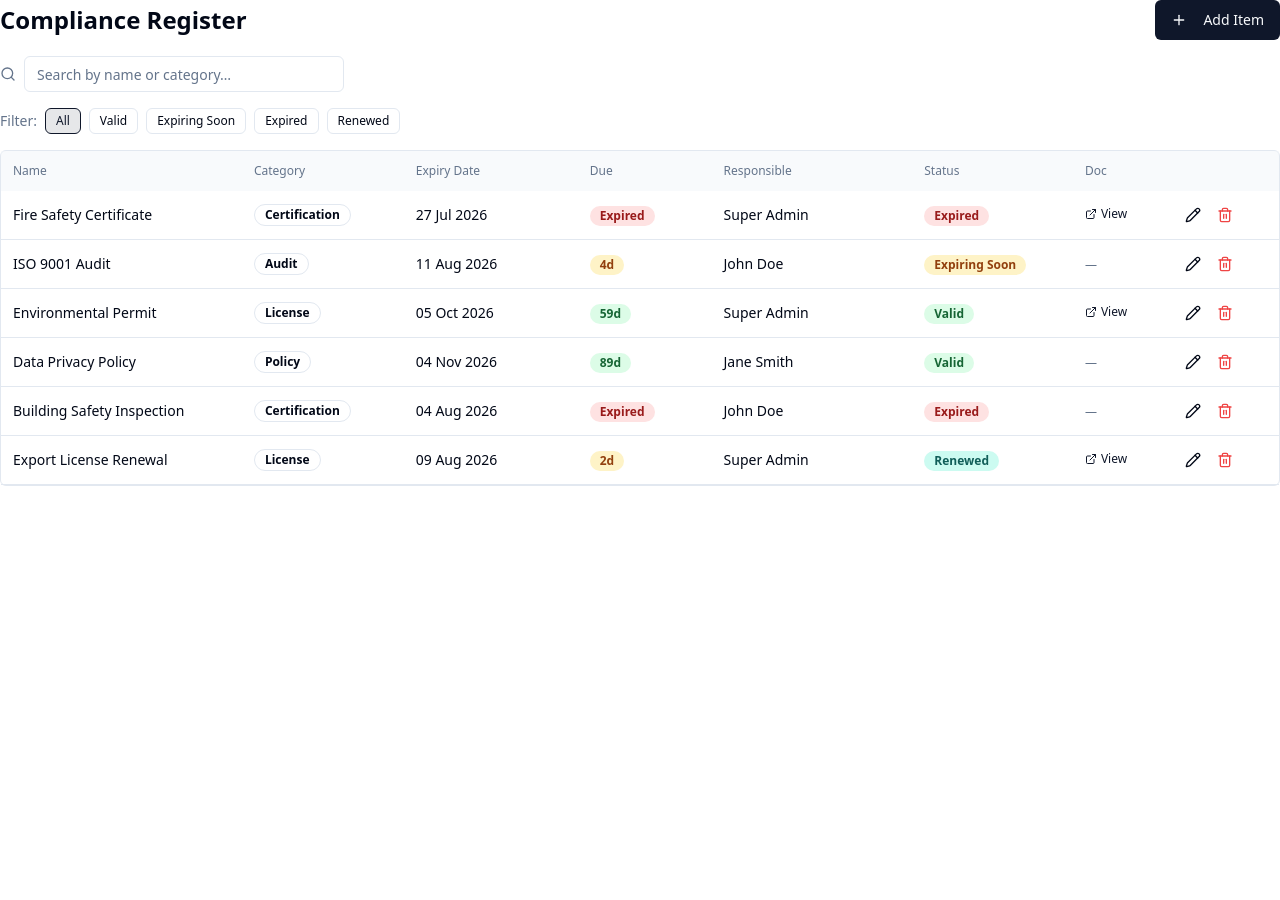
Scenario: CompliancePage › searches responsible user with autocomplete
The image size is (1280, 900).
Expected: the row with test id "compliance-row-comp-1" is shown, x1=1 y1=191 x2=1279 y2=240
Click the button with test id "new-compliance-btn".
click(1218, 20)  # box x1=1155 y1=0 x2=1279 y2=40
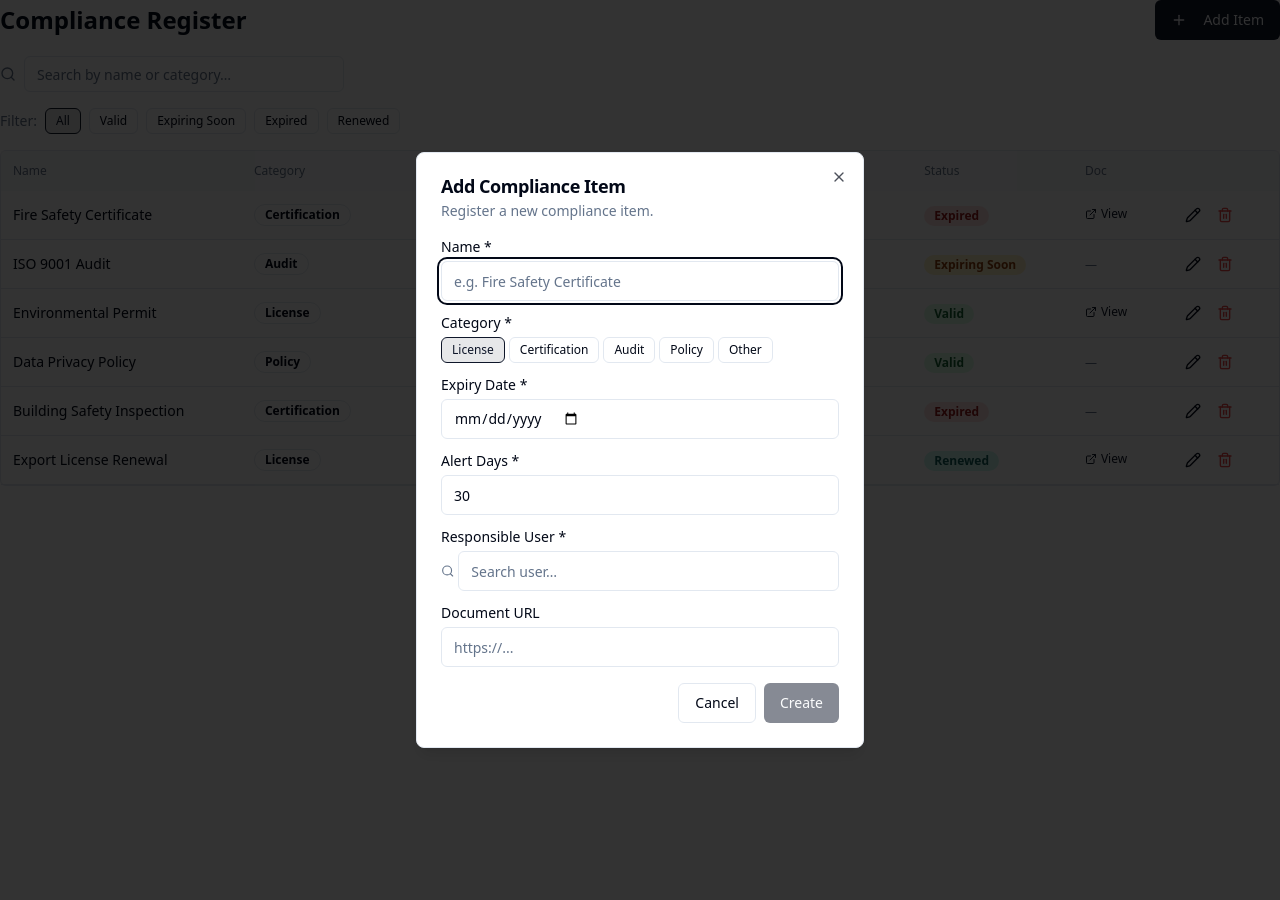
Now the field with test id "form-user-search" is shown, box x1=458 y1=551 x2=839 y2=591
